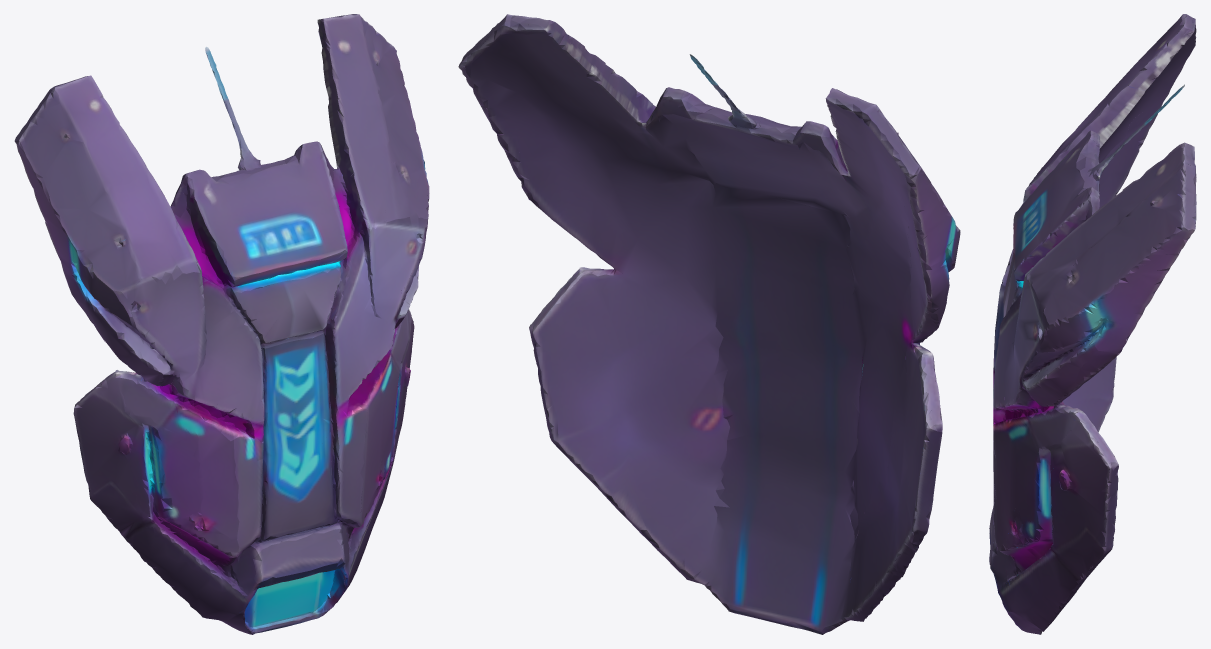
File: drifttuner_armor2.glb
The picture shows the model from 3 angles, left to right: view 1: azimuth 30°, elevation 25°; view 2: azimuth 150°, elevation 25°; view 3: azimuth 270°, elevation 25°; orthographic projection. The views are drawn at different scales.
Visible parts, largest first — view 1: Armor_Drift_Tuner.001; view 2: Armor_Drift_Tuner.001; view 3: Armor_Drift_Tuner.001.
Part boxes in pixels (x1=…): Armor_Drift_Tuner.001: x1=14, y1=14, x2=429, y2=634; Armor_Drift_Tuner.001: x1=458, y1=14, x2=960, y2=634; Armor_Drift_Tuner.001: x1=989, y1=14, x2=1196, y2=634.
Size of the model in its own units: 0.909 by 1.2 by 0.4246.
Materials: 1 (1 with a texture image).
